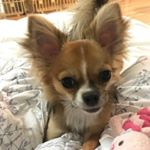puppy: (20, 1, 131, 150)
